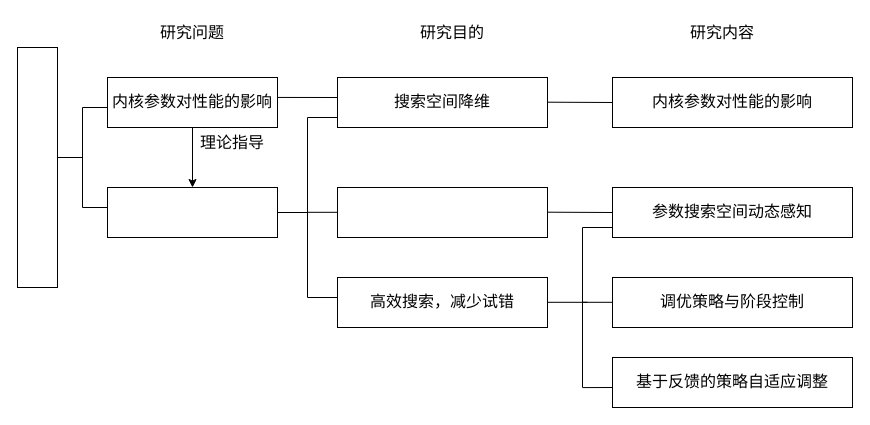
The diagram is 870 pixels wide and 425 high, and some of its shapes have lost their labels. Each missing label, with the centre of its shape:
"基于代理系统的智能调优系统设计" belongs at (x=192, y=212).
"搜索空间动态降维" belongs at (x=442, y=212).
"面向深度学习任务的操作系统内核参数调优系统" belongs at (x=37, y=167).
